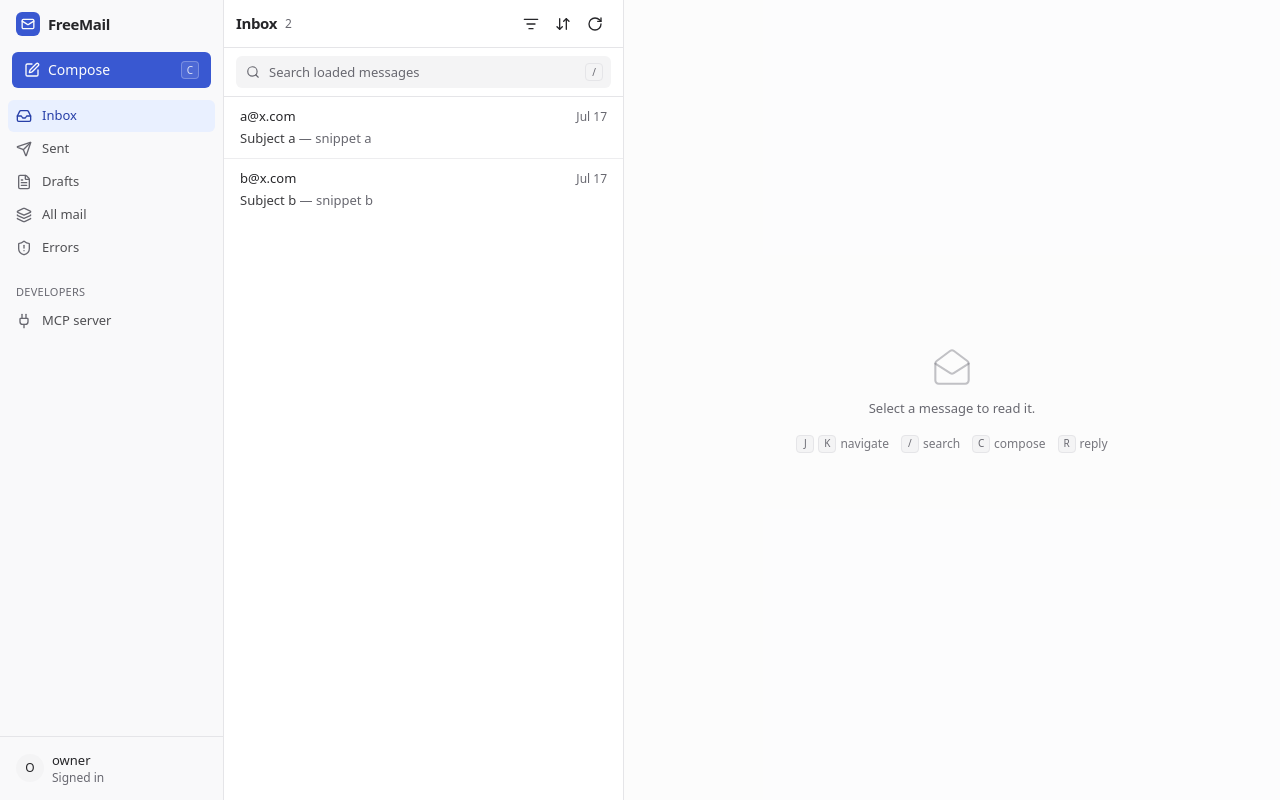
AppShell — message list › opens a message in the reading pane when a row is clicked
Click the text "Subject b".
click(268, 200)  # box [240,190,296,208]
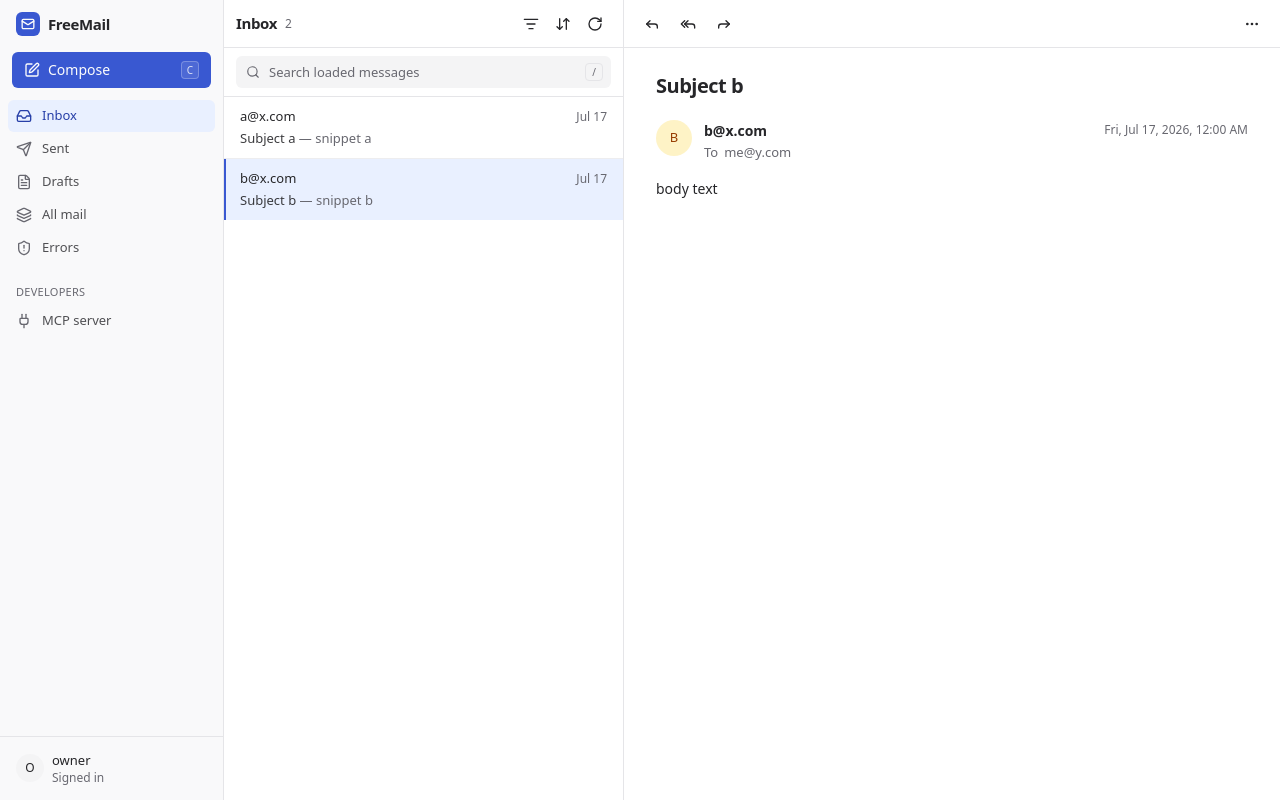
Result: the heading "Subject b" is shown at [656,72,743,99]
Result: the text "body text" is shown at [656,179,718,198]
